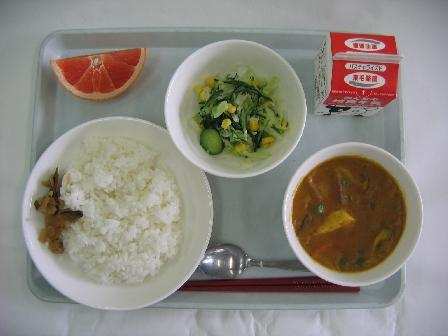Citrus: (39, 35, 157, 115)
Curry: (287, 156, 421, 275)
Milk: (310, 20, 401, 122)
Rice: (58, 136, 183, 283)
Salad: (183, 62, 295, 158)
vegetable based cooked food: (19, 174, 85, 253)
